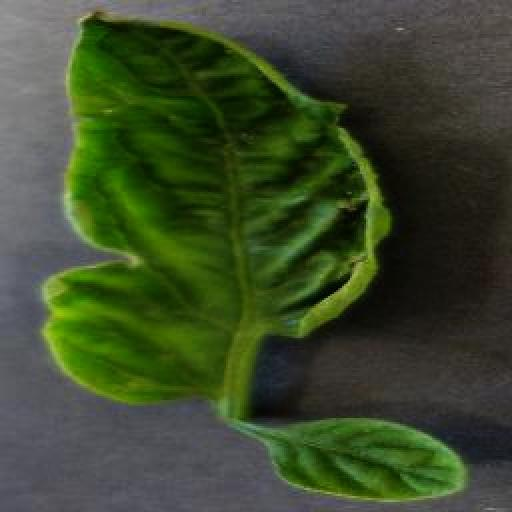disease_tomato: (38, 9, 394, 407), (266, 413, 467, 507)
